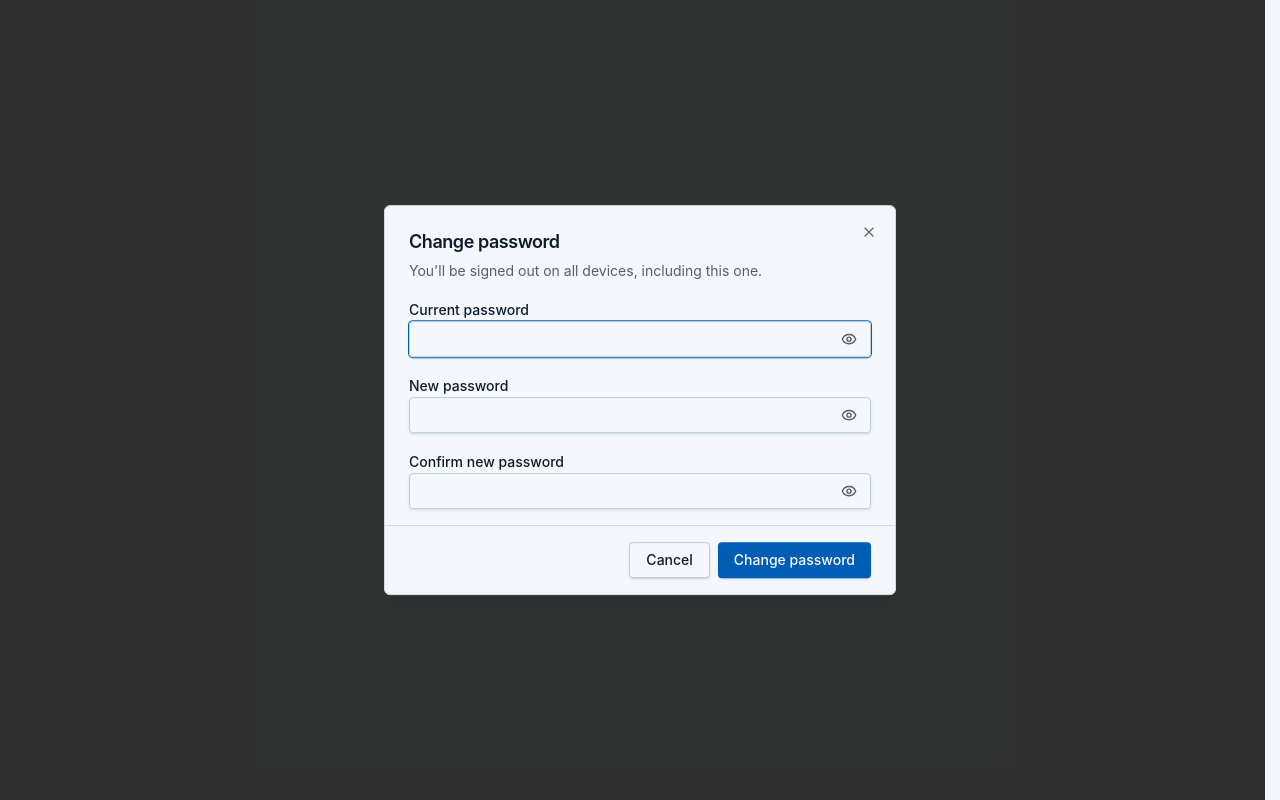
Test: ChangePasswordDialog › puts a wrong current password on its field and stays open
Type "wrongpass" into the password field labelled "Current password" at (640,339), box x1=409 y1=321 x2=871 y2=357
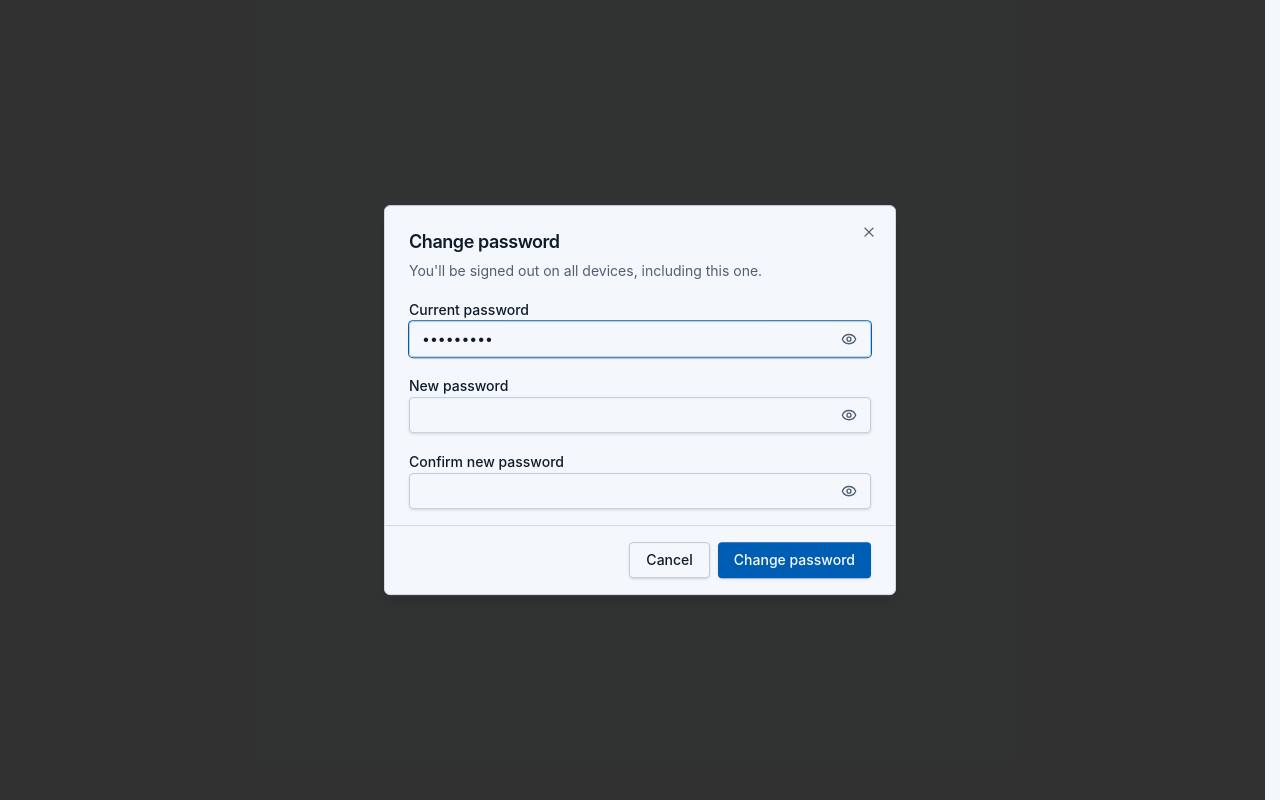
Type "NewPassword1!" into the password field labelled "New password" at (640,415), box x1=409 y1=397 x2=871 y2=433
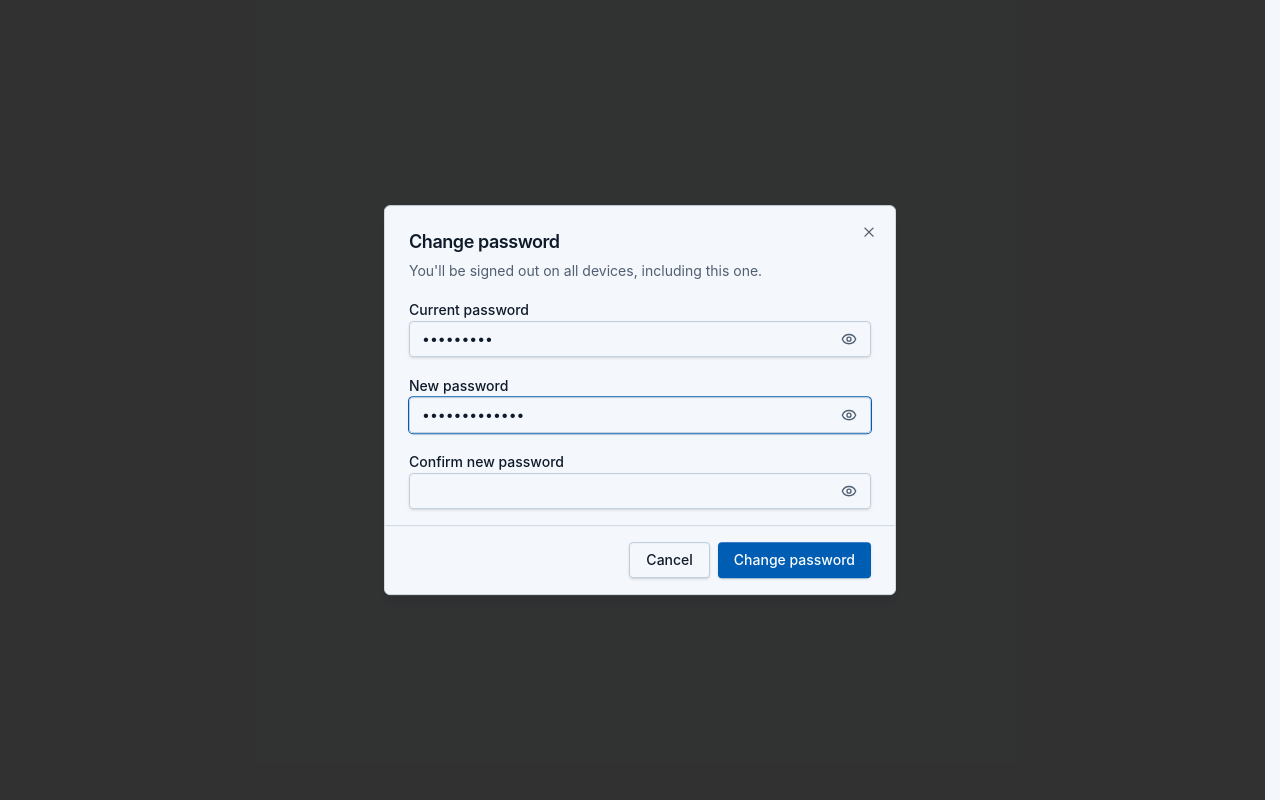
Type "NewPassword1!" into the password field labelled "Confirm new password" at (640,491), box x1=409 y1=473 x2=871 y2=509
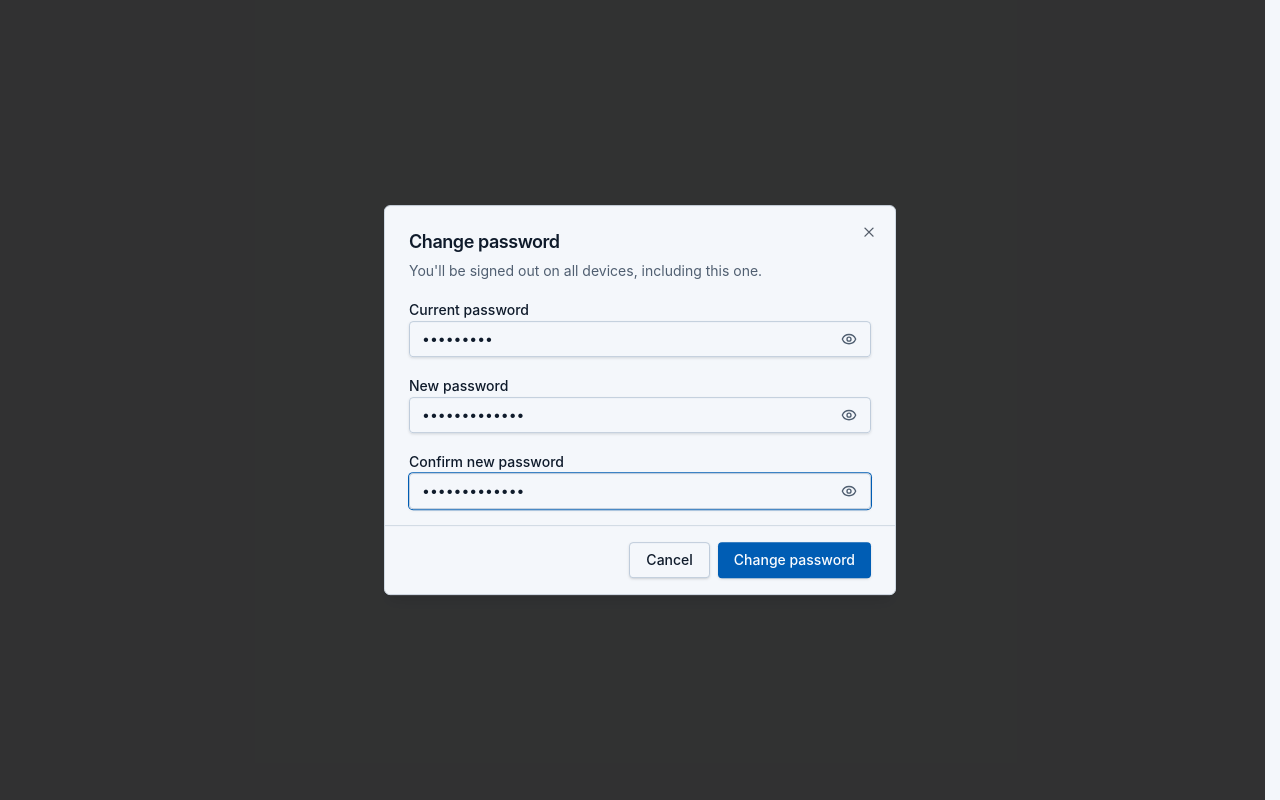
Click the button "Change password" at (794,560), box x1=718 y1=542 x2=871 y2=578
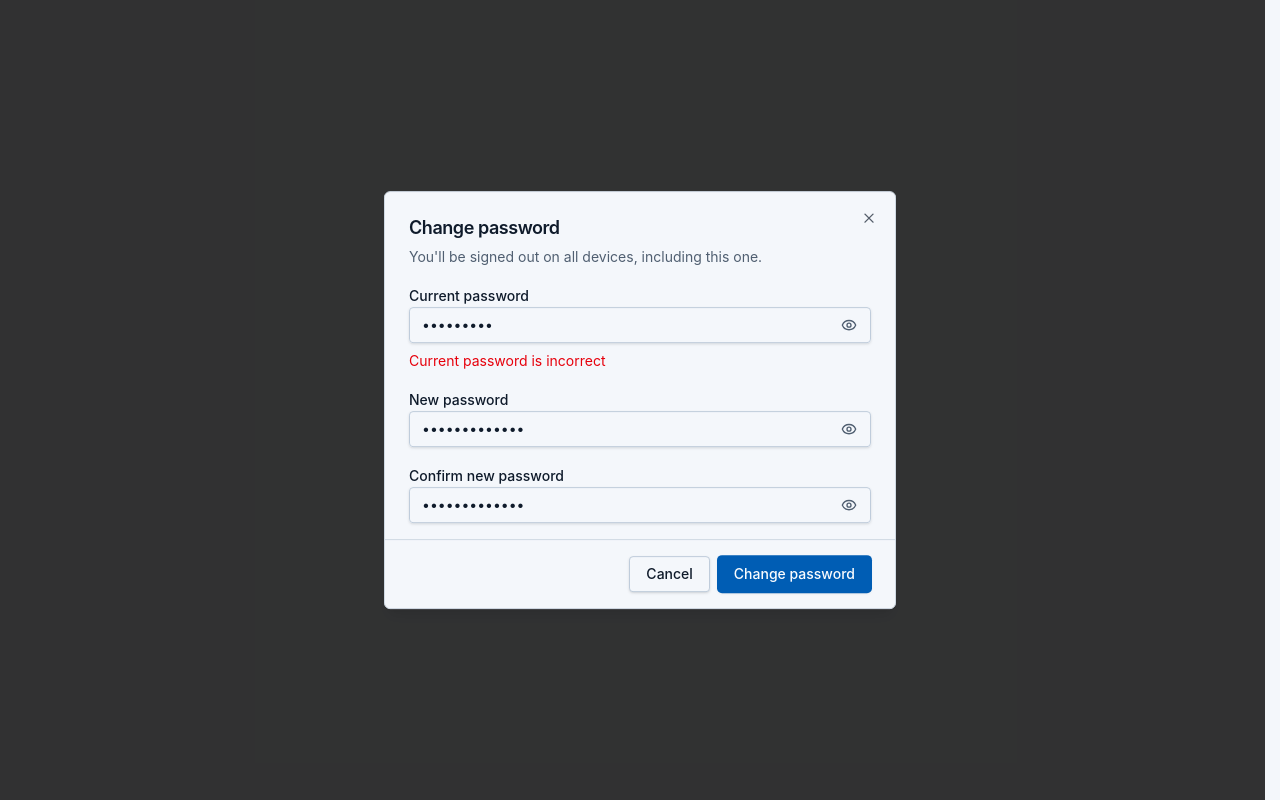
Now the text "Current password is incorrect" is shown, box x1=409 y1=352 x2=606 y2=369
